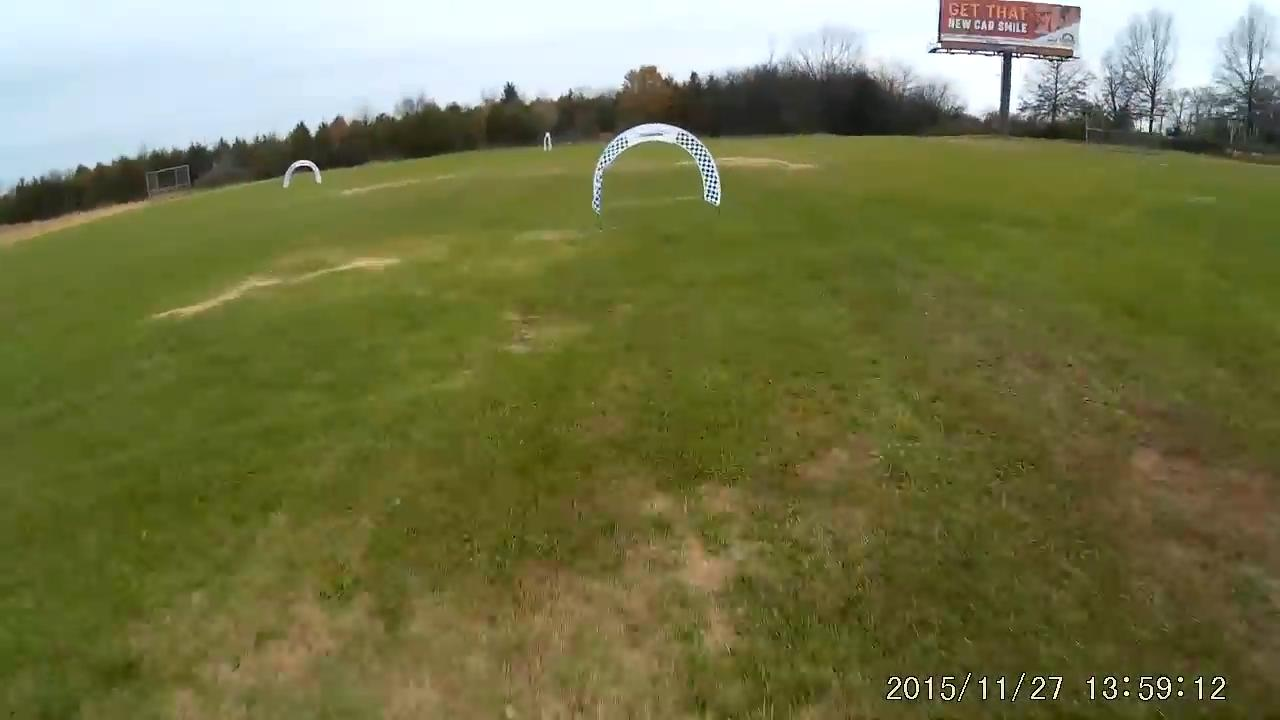gate: (589, 123, 724, 210)
